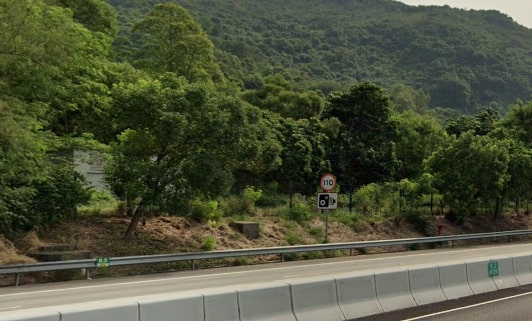Speed Limit: (319, 174, 337, 191)
